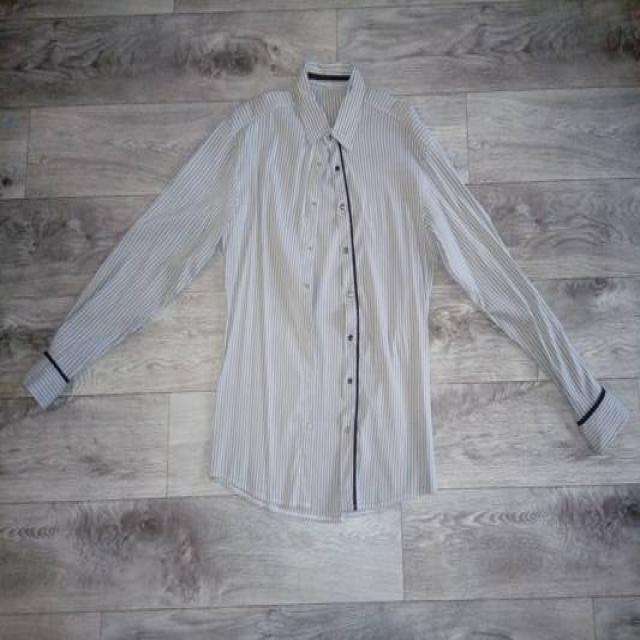Clothes -Biodegradable-: (24, 62, 628, 526)
